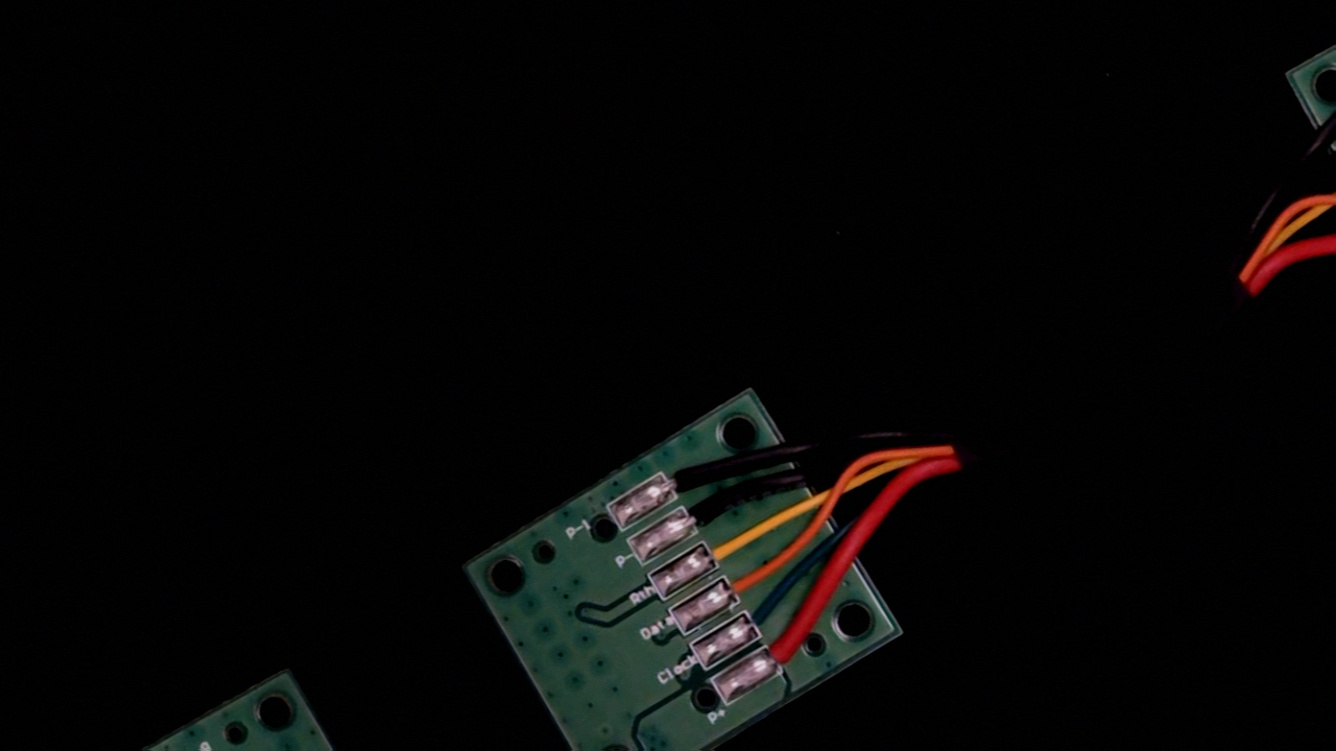Black: (668, 483, 739, 545)
Black1: (647, 448, 719, 509)
Green: (731, 593, 792, 650)
Orange: (711, 559, 775, 615)
Red: (751, 629, 812, 685)
Yellow: (688, 518, 757, 582)
